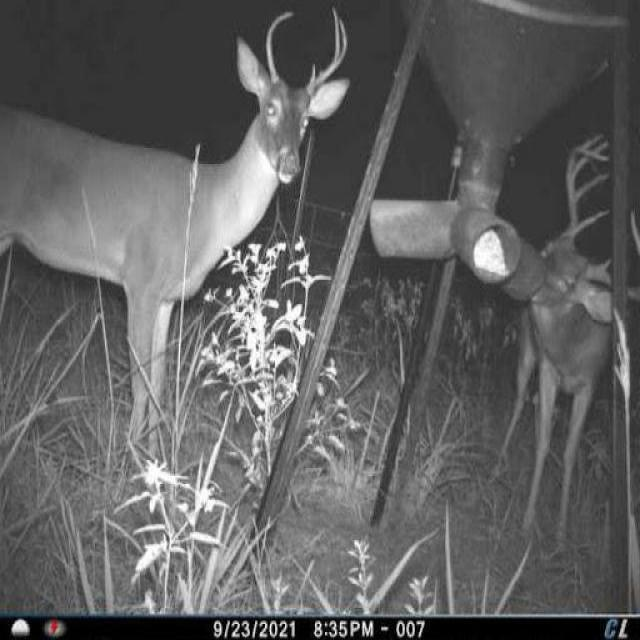deer: (1, 0, 357, 475), (497, 127, 640, 566)
